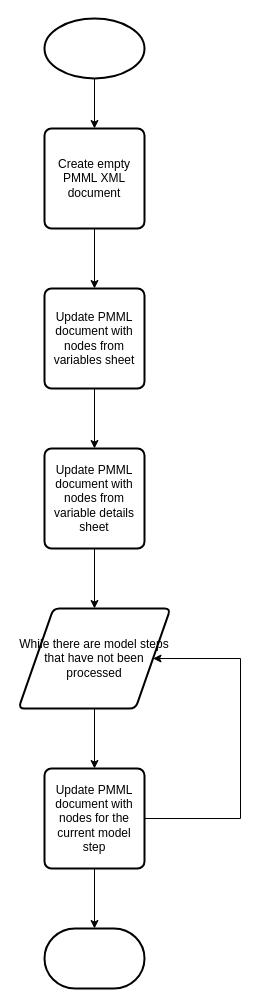
Image size: 266x1006. Some labels were removed from this diagram. The centre of each missing label's shape, as x and y in pixels:
"Begin" goes at point (94, 48).
"End" goes at point (94, 958).
